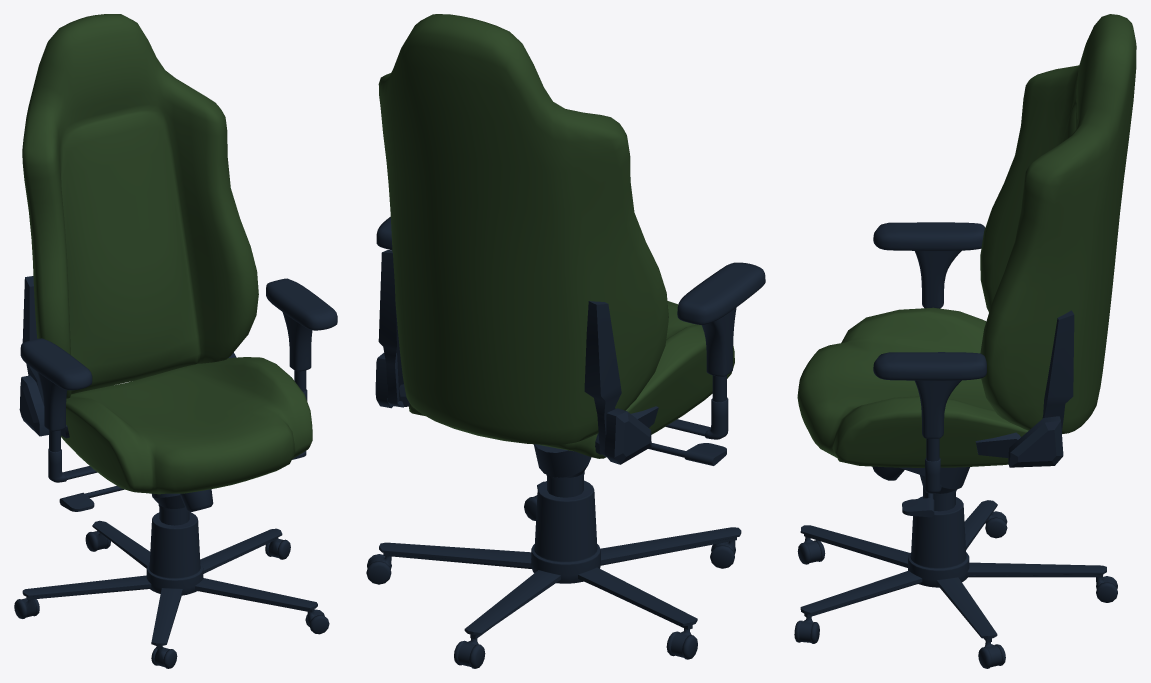
Rendered from GamingChair.fbx.
The picture shows the model from 3 angles, left to right: view 1: azimuth 30°, elevation 25°; view 2: azimuth 150°, elevation 25°; view 3: azimuth 270°, elevation 25°; orthographic projection. The views are drawn at different scales.
Visible parts, largest first — view 1: BackRest, Seat, WheelFrame.001, Bottom; view 2: BackRest, Seat, WheelFrame.001, Bottom, Wheel.001, Wheel.002, Wheel.005, Wheel.003; view 3: BackRest, Seat, WheelFrame.001, Bottom, Wheel.005, Wheel.003, Wheel.004, Wheel.001.
Boxes of the visible parts, <box> form: BackRest: <box>22,14,258,404</box>; Seat: <box>19,278,337,494</box>; WheelFrame.001: <box>22,512,317,649</box>; Bottom: <box>59,451,306,525</box>; BackRest: <box>378,14,668,457</box>; Seat: <box>375,217,765,464</box>; WheelFrame.001: <box>379,480,741,639</box>; Bottom: <box>533,443,726,497</box>; Wheel.001: <box>454,638,485,668</box>; Wheel.002: <box>666,628,697,659</box>; Wheel.005: <box>366,554,391,584</box>; Wheel.003: <box>710,540,735,568</box>; BackRest: <box>980,14,1136,433</box>; Seat: <box>797,222,1063,493</box>; WheelFrame.001: <box>800,496,1106,642</box>; Bottom: <box>872,466,969,517</box>; Wheel.005: <box>978,641,1005,668</box>; Wheel.003: <box>797,536,825,564</box>; Wheel.004: <box>794,616,819,643</box>; Wheel.001: <box>1096,576,1117,602</box>.
Bounding box in the file's own units: 74.6 × 135 × 73.16.
